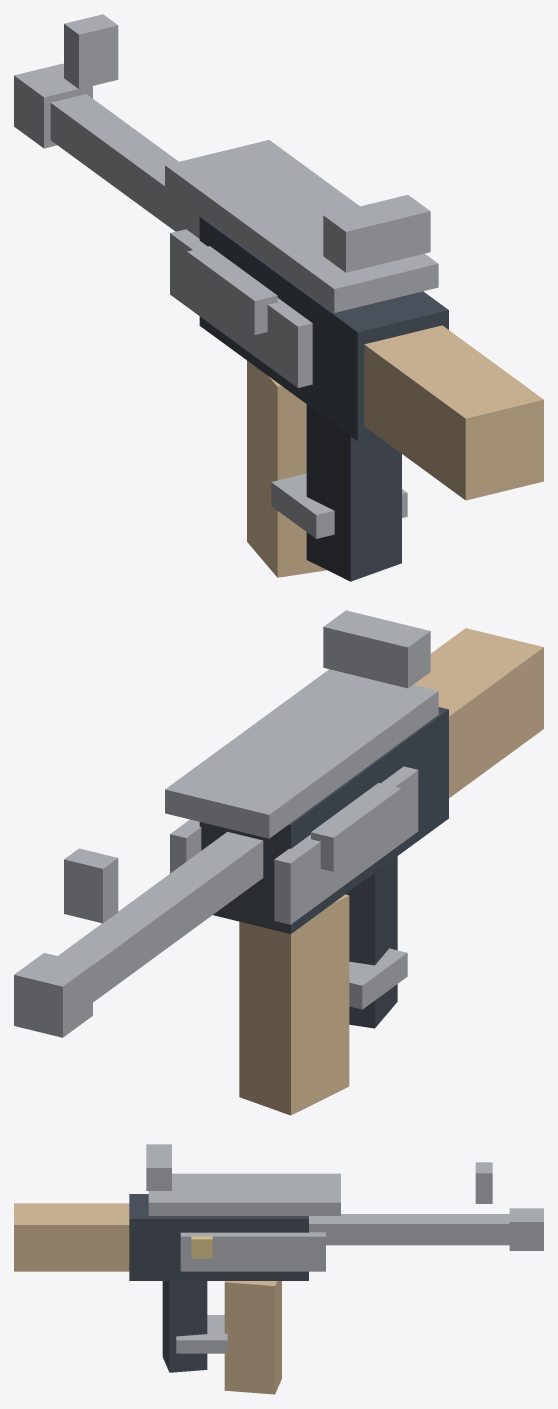
Rendered from scar.glb.
The picture shows the model from 3 angles, top to bottom: view 1: azimuth 30°, elevation 25°; view 2: azimuth 150°, elevation 25°; view 3: azimuth 270°, elevation 25°; orthographic projection. The views are drawn at different scales.
Parts seen in each view (by area): view 1: scar_metal, scar_tan, scar_dark; view 2: scar_metal, scar_tan, scar_dark; view 3: scar_metal, scar_tan, scar_dark, scar_gold.
Part boxes in pixels (x1,y1,x2,y2): scar_metal: [14, 14, 438, 538]; scar_tan: [247, 325, 543, 577]; scar_dark: [199, 216, 448, 581]; scar_metal: [14, 610, 438, 1037]; scar_tan: [239, 628, 543, 1115]; scar_dark: [199, 707, 448, 1028]; scar_metal: [146, 1144, 543, 1353]; scar_tan: [14, 1203, 281, 1394]; scar_dark: [129, 1194, 308, 1372]; scar_gold: [191, 1235, 212, 1258].
Bounding box in the file's own units: 0.22 × 0.59 × 1.24.
